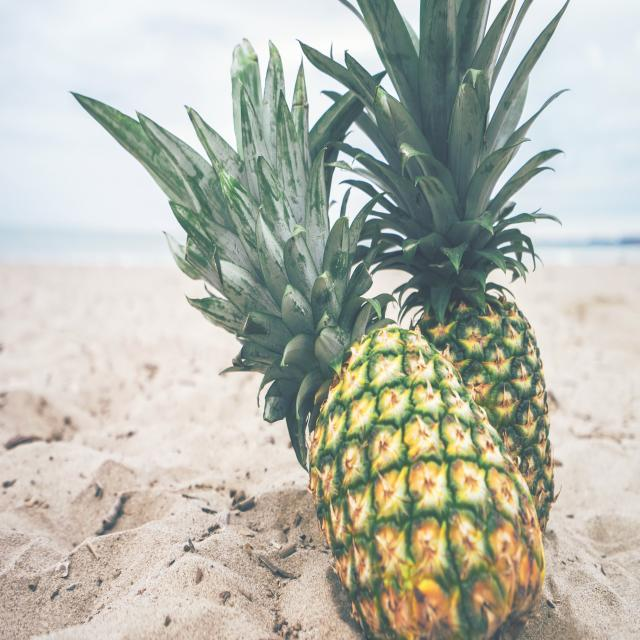pineapple: (272, 313, 550, 631)
